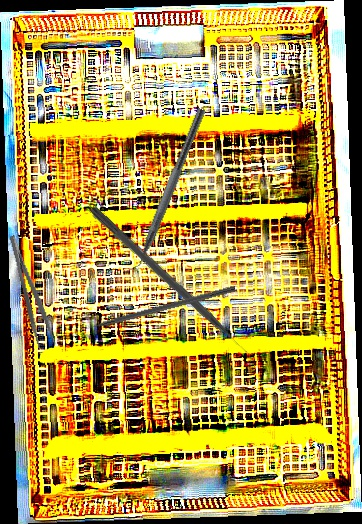Chopper: (121, 103, 206, 280)
Dressing Forceps: (6, 231, 57, 351)
Hook Surgical: (71, 284, 237, 336)
Pusher: (87, 204, 254, 362)
